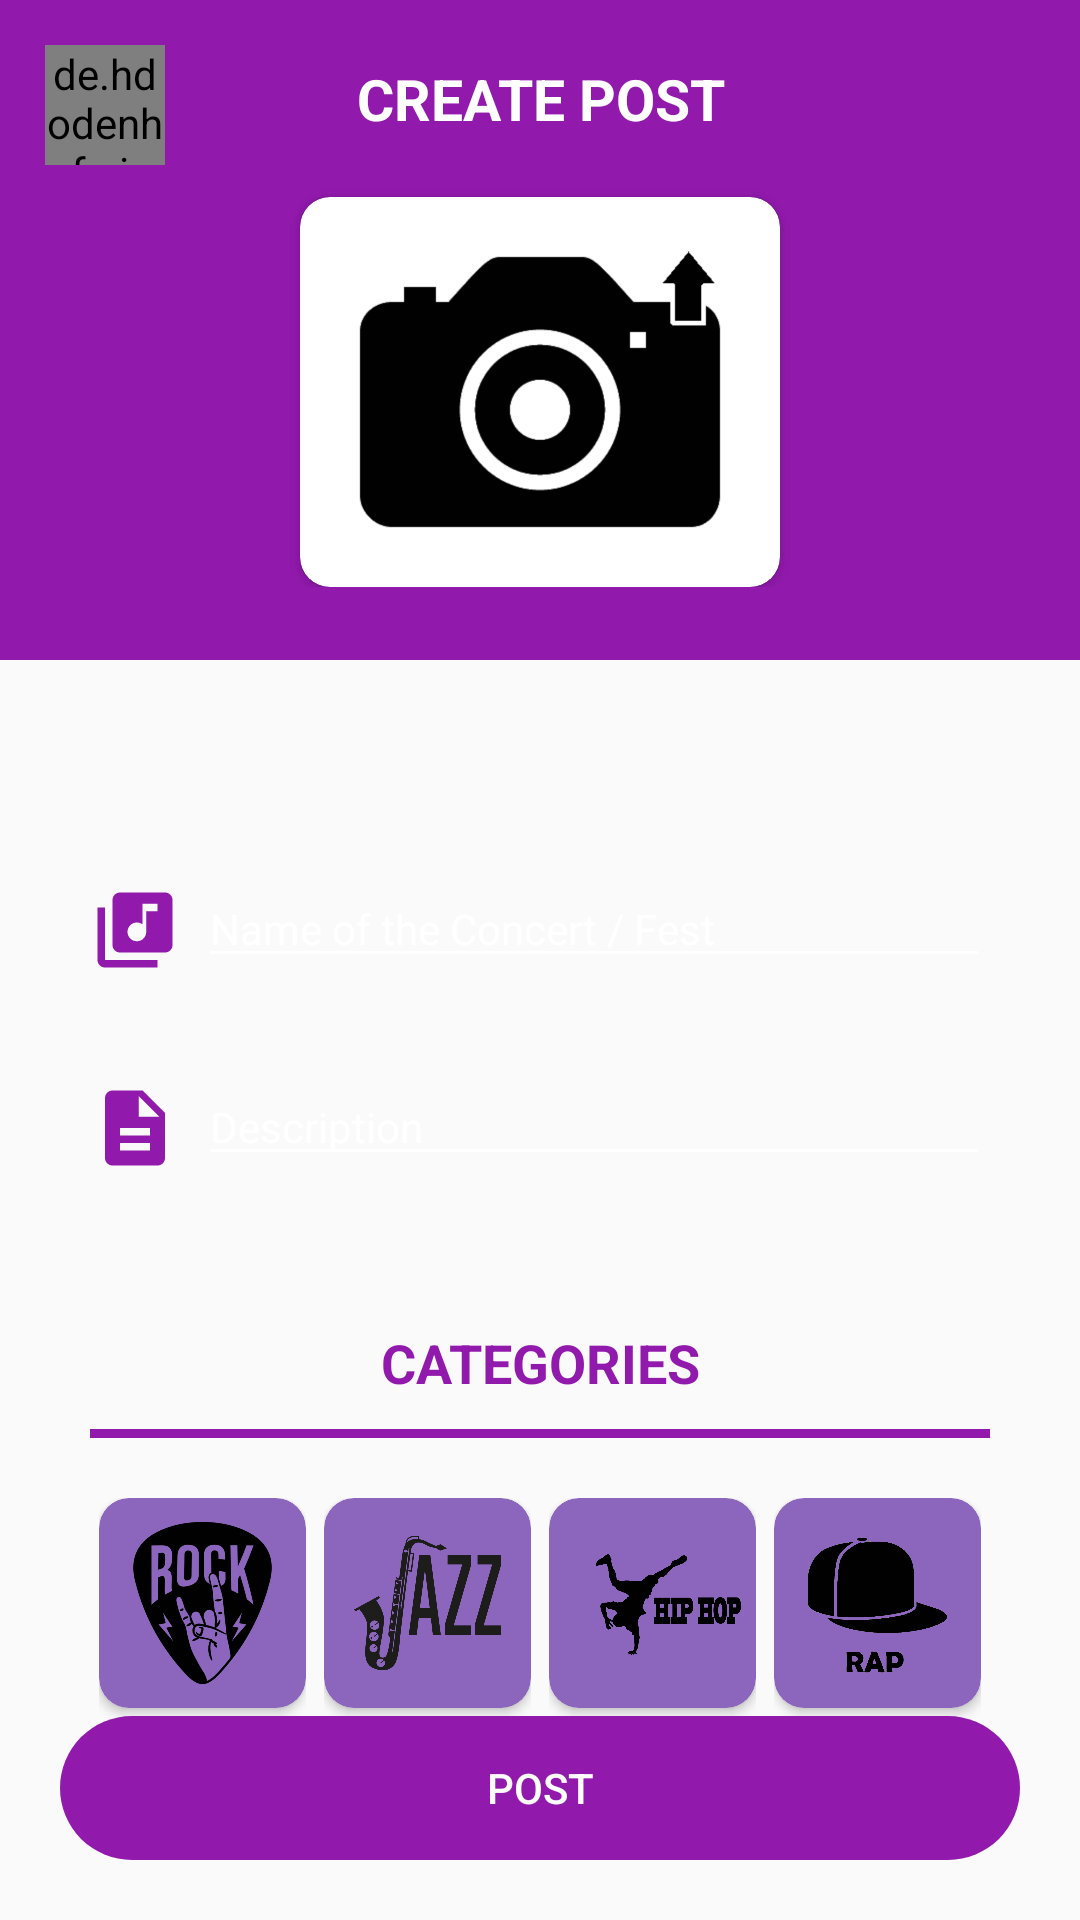

Icons on this 1080*1920 Android screen, each with the point to tap as [x,y]:
album: [135,930]
